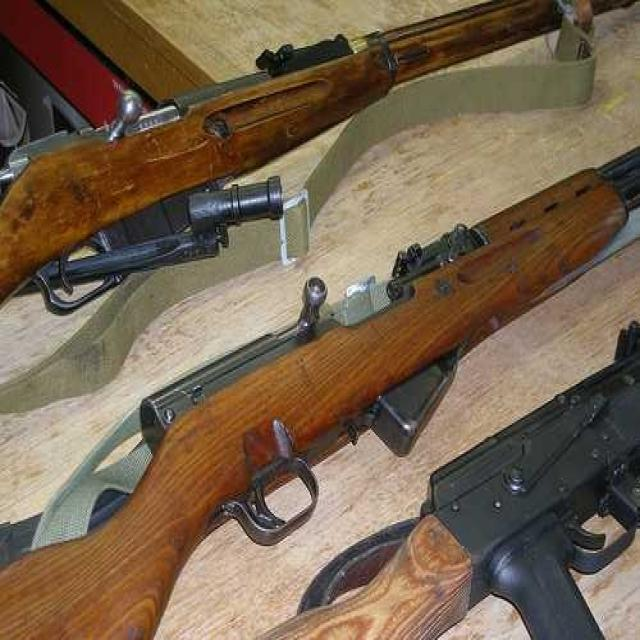heavyweapon: (7, 1, 567, 361), (163, 114, 621, 551)
